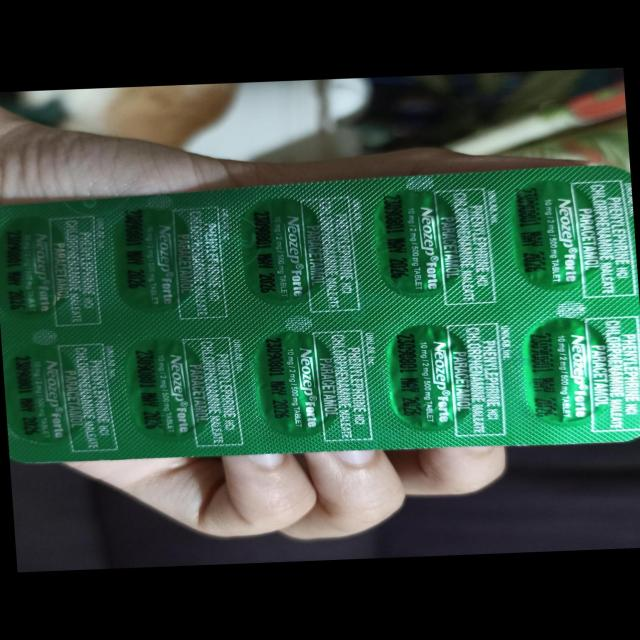Neozep_Strip: (0, 160, 640, 476)
